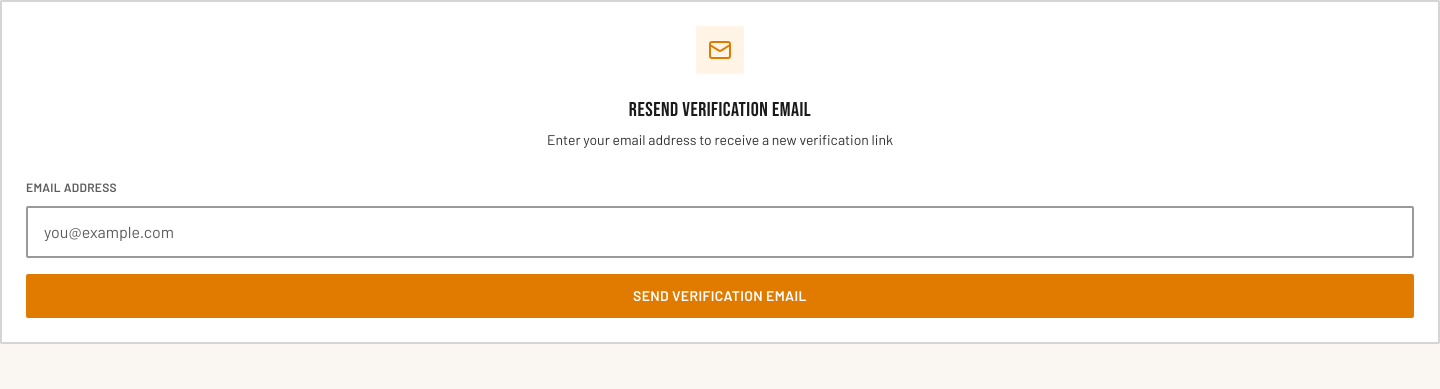
Scenario: ResendVerificationForm › Form Validation › should show validation error for empty email
Click the button "Send verification email".
click(720, 296)  # box 26,274 -> 1414,318
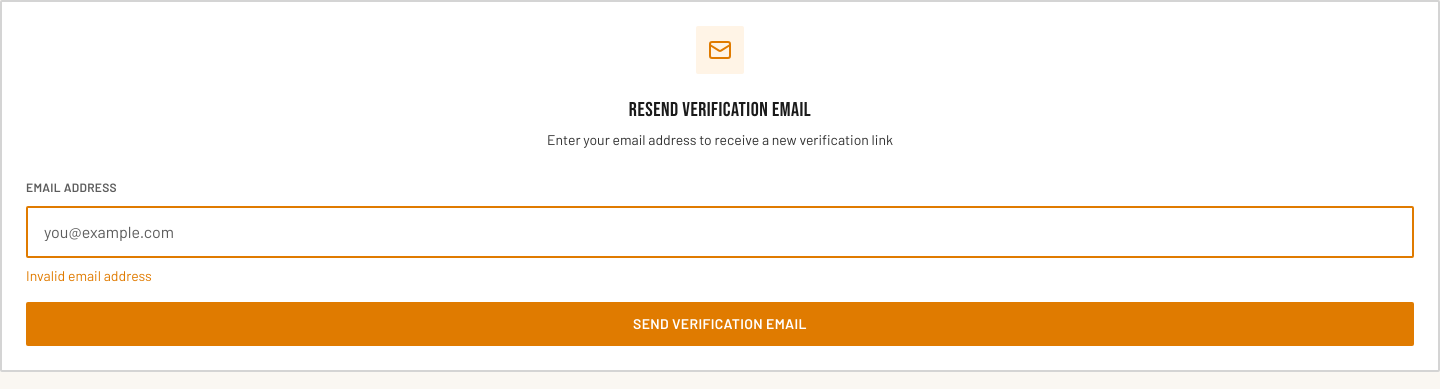
Result: the text "Invalid email address" is shown at 26,267 -> 152,284
